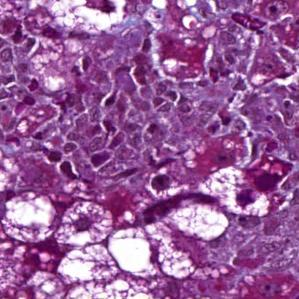ballooning: (106, 222, 195, 282), (28, 2, 132, 39), (199, 165, 270, 219), (2, 188, 59, 246), (49, 197, 114, 247)
